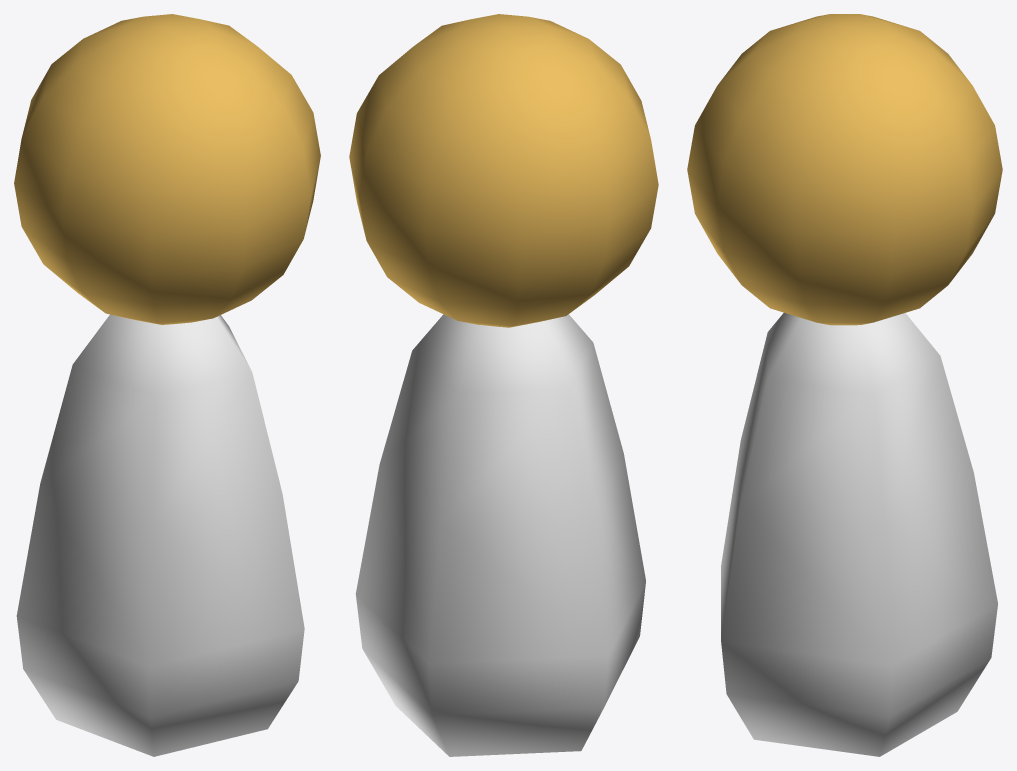
File: Torcida Tipo 1.fbx
3 views of the same model, side by side, from view 1: azimuth 30°, elevation 25°; view 2: azimuth 150°, elevation 25°; view 3: azimuth 270°, elevation 25° (orthographic).
Visible parts, largest first — view 1: Torcida; view 2: Torcida; view 3: Torcida.
Boxes of the visible parts, x1=… form: Torcida: x1=14, y1=14, x2=320, y2=756; Torcida: x1=349, y1=14, x2=658, y2=756; Torcida: x1=687, y1=14, x2=1002, y2=756.
Bounding box in the file's own units: 140 × 352 × 147.
